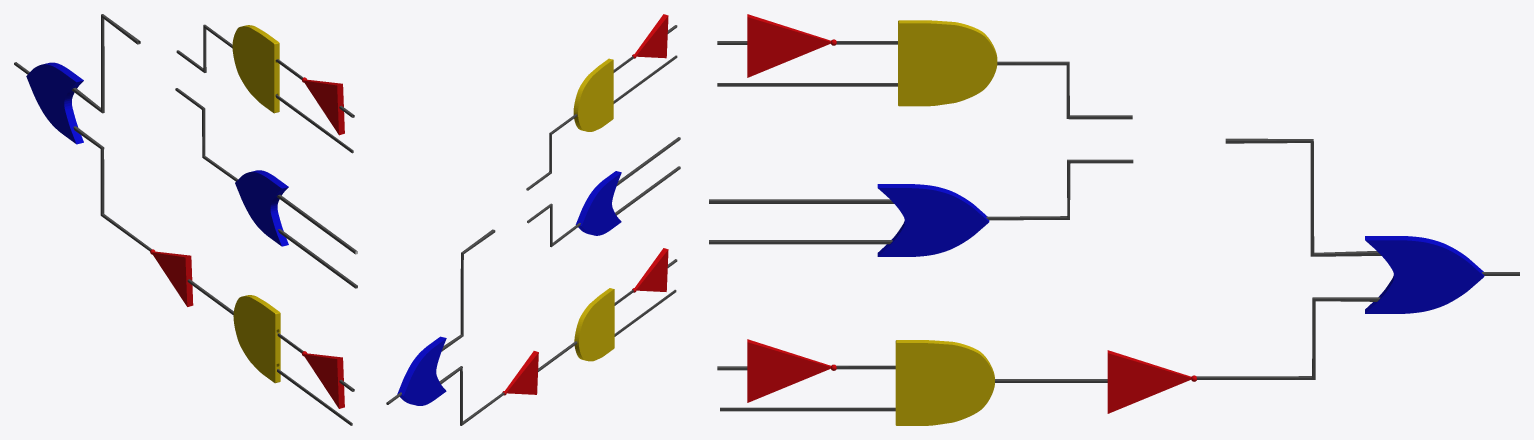
The model's file is fase4Exemplo1.fbx.
3 views of the same model, side by side, from view 1: azimuth 30°, elevation 25°; view 2: azimuth 150°, elevation 25°; view 3: azimuth 270°, elevation 25° (orthographic). The views are drawn at different scales.
Parts seen in each view (by area): view 1: PortaESozinha, PortaESozinha.003, PortaOuSozinha.004, PortaOuSozinha.001, Cube, Cube.001, Cube.002, PortaESozinha.001, Plano.001, Plano.003, Plano.000, PortaOuSozinha (+2 smaller); view 2: PortaESozinha.003, PortaESozinha, PortaOuSozinha.004, PortaOuSozinha.001, Cube.002, Cube, Cube.001, PortaESozinha.001, Plano.001, Plano.003, Plano.000, PortaOuSozinha (+2 smaller); view 3: PortaESozinha.003, PortaESozinha, PortaOuSozinha.004, PortaOuSozinha.001, Cube.002, Cube, Cube.001, PortaESozinha.001, Plano.001, PortaOuSozinha.003, Plano.003, PortaOuSozinha (+2 smaller).
Boxes of the visible parts, left/top/right/bottom form: PortaESozinha: left=232, top=25, right=279, bottom=113; PortaESozinha.003: left=233, top=295, right=280, bottom=383; PortaOuSozinha.004: left=26, top=62, right=83, bottom=144; PortaOuSozinha.001: left=235, top=170, right=288, bottom=246; Cube: left=302, top=77, right=344, bottom=135; Cube.001: left=302, top=351, right=344, bottom=408; Cube.002: left=150, top=249, right=193, bottom=306; PortaESozinha.001: left=277, top=194, right=357, bottom=288; Plano.001: left=72, top=14, right=140, bottom=113; Plano.003: left=73, top=126, right=151, bottom=251; Plano.000: left=175, top=88, right=237, bottom=181; PortaOuSozinha: left=275, top=59, right=353, bottom=153; PortaESozinha.003: left=574, top=288, right=614, bottom=361; PortaESozinha: left=573, top=58, right=613, bottom=131; PortaOuSozinha.004: left=397, top=336, right=446, bottom=405; PortaOuSozinha.001: left=575, top=171, right=621, bottom=235; Cube.002: left=502, top=351, right=538, bottom=395; Cube: left=632, top=14, right=668, bottom=58; Cube.001: left=632, top=248, right=668, bottom=292; PortaESozinha.001: left=615, top=137, right=680, bottom=215; Plano.001: left=441, top=229, right=495, bottom=351; Plano.003: left=439, top=366, right=504, bottom=425; Plano.000: left=527, top=203, right=580, bottom=247; PortaOuSozinha: left=613, top=55, right=677, bottom=103; PortaESozinha.003: left=895, top=340, right=994, bottom=425; PortaESozinha: left=898, top=20, right=997, bottom=106; PortaOuSozinha.004: left=1365, top=236, right=1484, bottom=313; PortaOuSozinha.001: left=877, top=184, right=989, bottom=256; Cube.002: left=1107, top=350, right=1196, bottom=413; Cube: left=747, top=14, right=836, bottom=77; Cube.001: left=747, top=339, right=836, bottom=402; PortaESozinha.001: left=709, top=199, right=893, bottom=244; Plano.001: left=1225, top=138, right=1381, bottom=256; PortaOuSozinha.003: left=720, top=365, right=895, bottom=411; Plano.003: left=1196, top=297, right=1380, bottom=379; PortaOuSozinha: left=717, top=41, right=897, bottom=86.
Size of the model in its own units: 3.25 by 128 by 229.
